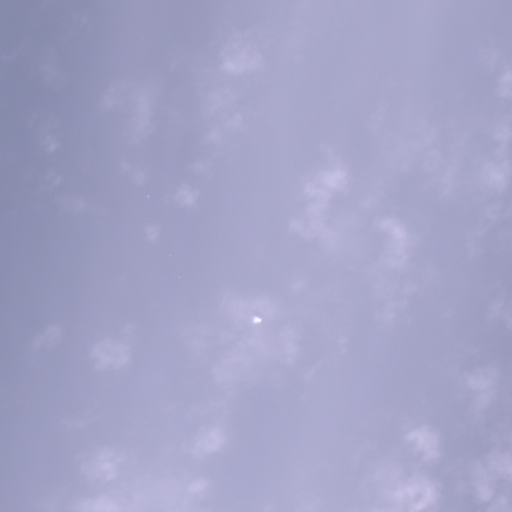Iceberg: (254, 317, 261, 321)
